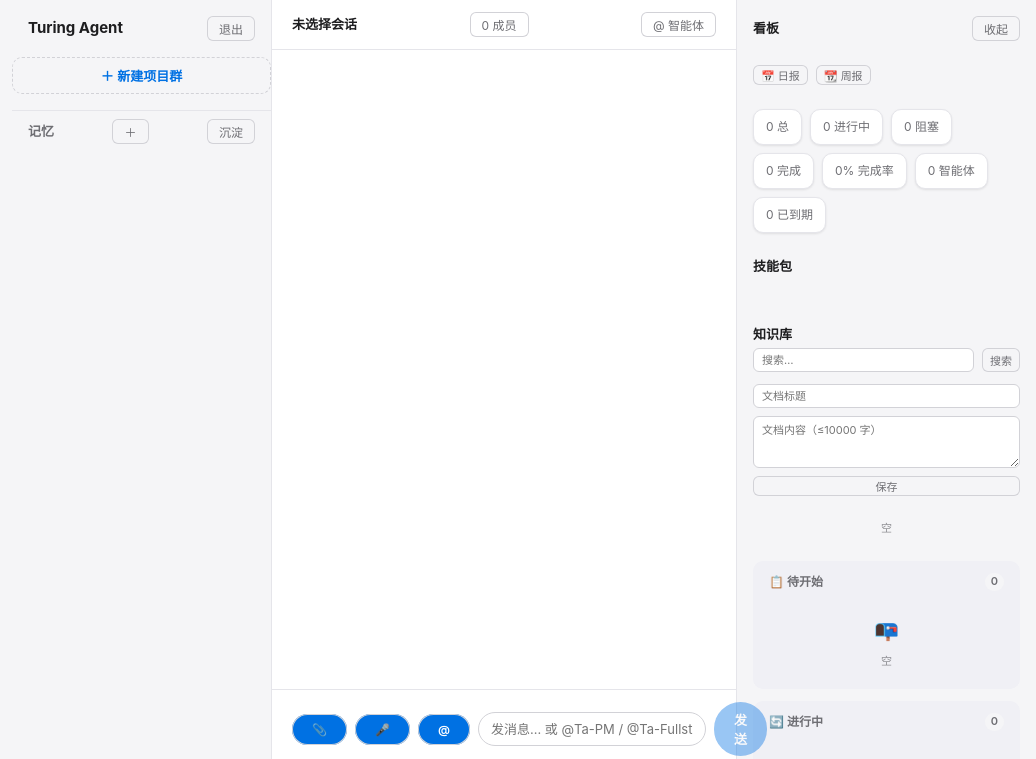
Chat › sends a transcript text after speech stop
This screenshot has width=1036, height=759.
Press the mouse on the button "🎤" at [382, 729], box [355,714,410,744]
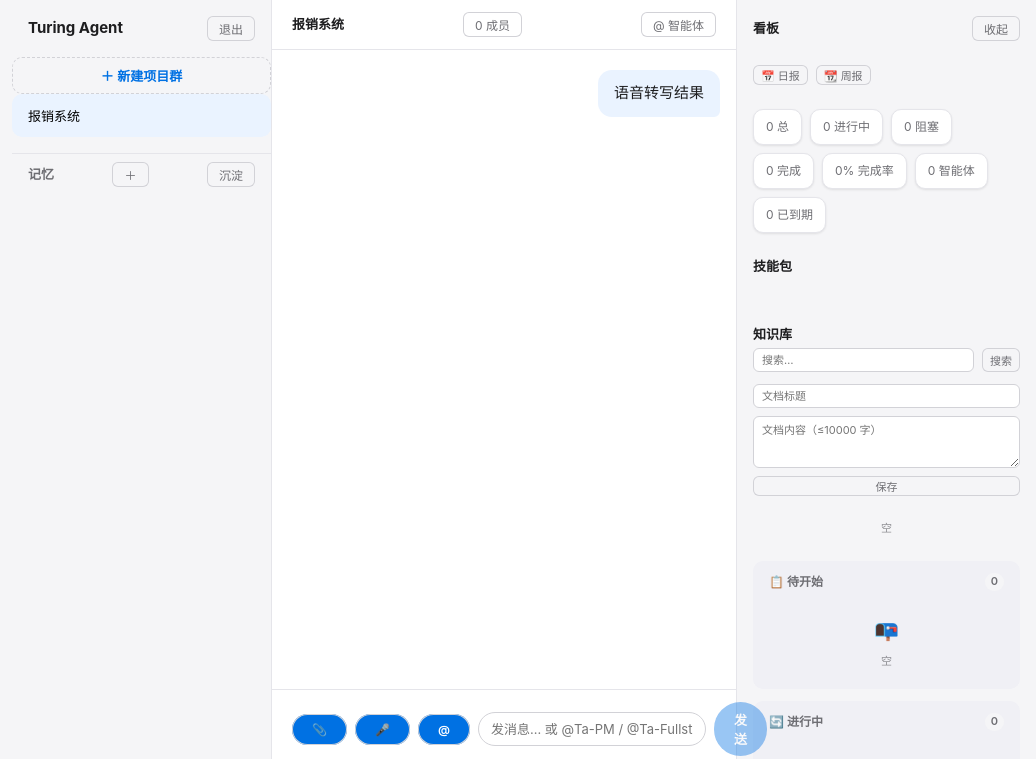
Now the text "语音转写结果" is shown, box [598,70,720,116]
